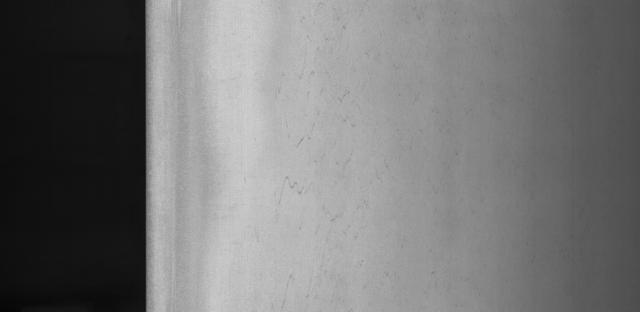silk_spot: (271, 20, 397, 294)
